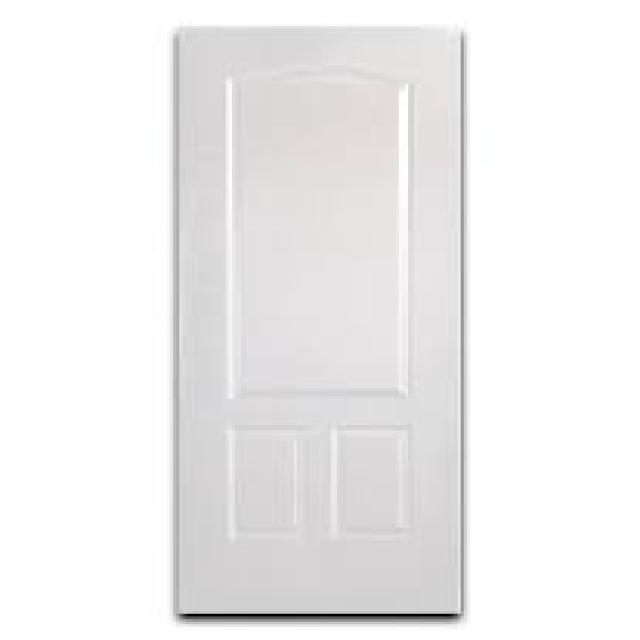door: (173, 24, 464, 616)
